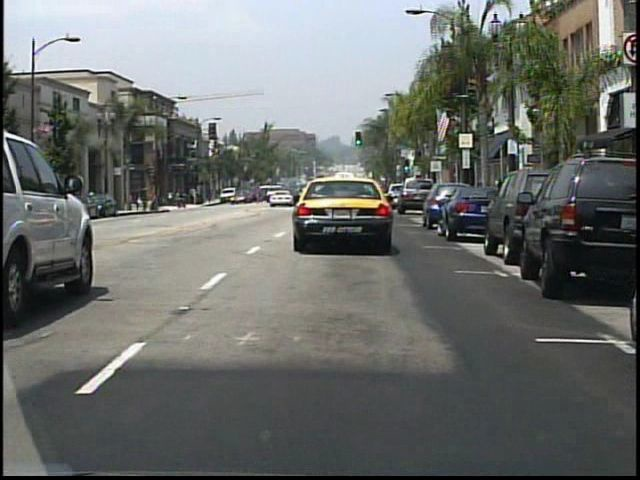person: (184, 189, 192, 210)
